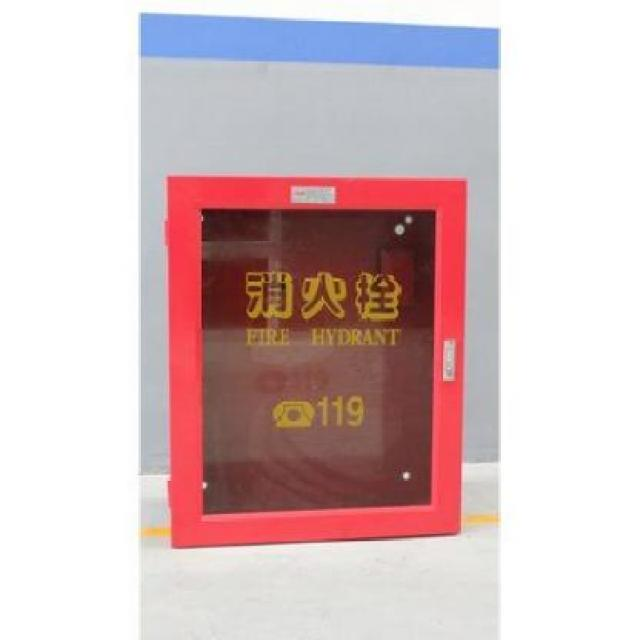firehydrant: (158, 166, 474, 550)
